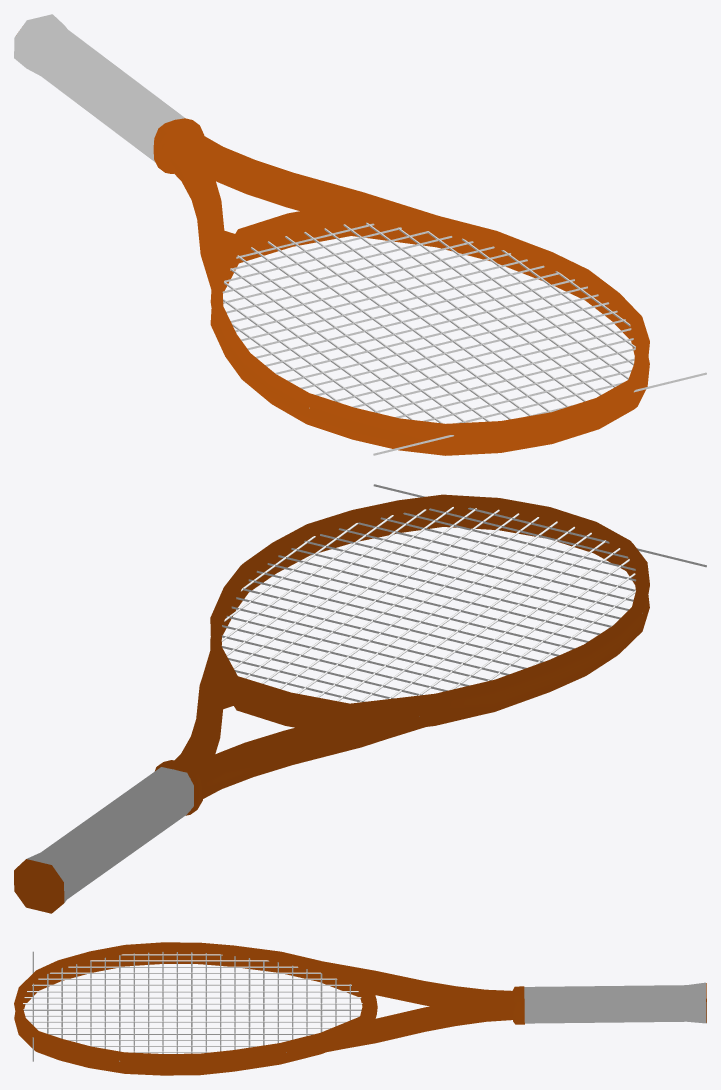
File: tennis.fbx
The picture shows the model from 3 angles, top to bottom: view 1: azimuth 30°, elevation 25°; view 2: azimuth 150°, elevation 25°; view 3: azimuth 270°, elevation 25°; orthographic projection. The views are drawn at different scales.
Parts seen in each view (by area): view 1: frame, Cylinder_10_1, Cylinder_11_1, Cylinder_9_1, Cylinder_12_1, Cylinder_8_1, Cylinder_13_1, Cylinder_7_1, Cylinder_14_1, Cylinder_6_1, Cylinder_9, Cylinder_8 (+12 smaller); view 2: frame, Cylinder_10_1, Cylinder_8_1, Cylinder_9_1, Cylinder_11_1, Cylinder_7_1, Cylinder_12_1, Cylinder_6_1, Cylinder_13_1, Cylinder_5_1, Cylinder_8, Cylinder_14_1 (+13 smaller); view 3: frame, Cylinder_9, Cylinder_8, Cylinder_10, Cylinder_7, Cylinder_5, Cylinder_6, Cylinder_11, Cylinder_4, Cylinder_12, Cylinder_3, Cylinder_13 (+5 smaller).
Boxes of the visible parts, bbox=[...] form: frame: bbox=[14, 14, 649, 455]; Cylinder_10_1: bbox=[275, 294, 598, 374]; Cylinder_11_1: bbox=[265, 286, 587, 366]; Cylinder_9_1: bbox=[287, 302, 609, 381]; Cylinder_12_1: bbox=[256, 279, 574, 358]; Cylinder_8_1: bbox=[300, 310, 617, 389]; Cylinder_13_1: bbox=[247, 272, 558, 349]; Cylinder_7_1: bbox=[315, 319, 625, 395]; Cylinder_14_1: bbox=[241, 265, 544, 341]; Cylinder_6_1: bbox=[309, 328, 631, 408]; Cylinder_9: bbox=[304, 232, 551, 412]; Cylinder_8: bbox=[285, 236, 530, 415]; frame: bbox=[14, 494, 649, 913]; Cylinder_10_1: bbox=[267, 563, 588, 642]; Cylinder_8_1: bbox=[291, 548, 611, 627]; Cylinder_9_1: bbox=[278, 555, 600, 634]; Cylinder_11_1: bbox=[256, 570, 574, 649]; Cylinder_7_1: bbox=[304, 540, 620, 619]; Cylinder_12_1: bbox=[248, 579, 559, 656]; Cylinder_6_1: bbox=[320, 534, 642, 613]; Cylinder_13_1: bbox=[243, 588, 543, 662]; Cylinder_5_1: bbox=[338, 528, 633, 601]; Cylinder_8: bbox=[316, 521, 557, 697]; Cylinder_14_1: bbox=[236, 597, 526, 669]; frame: bbox=[14, 942, 706, 1075]; Cylinder_9: bbox=[23, 1009, 361, 1010]; Cylinder_8: bbox=[23, 1003, 362, 1004]; Cylinder_10: bbox=[25, 1015, 359, 1016]; Cylinder_7: bbox=[24, 997, 361, 998]; Cylinder_5: bbox=[32, 984, 351, 985]; Cylinder_6: bbox=[27, 991, 358, 992]; Cylinder_11: bbox=[29, 1021, 347, 1022]; Cylinder_4: bbox=[38, 978, 337, 979]; Cylinder_12: bbox=[35, 1027, 332, 1028]; Cylinder_3: bbox=[50, 972, 320, 973]; Cylinder_13: bbox=[48, 1033, 315, 1034].
Size of the model in its own units: 12972 by 1837 by 33006.
